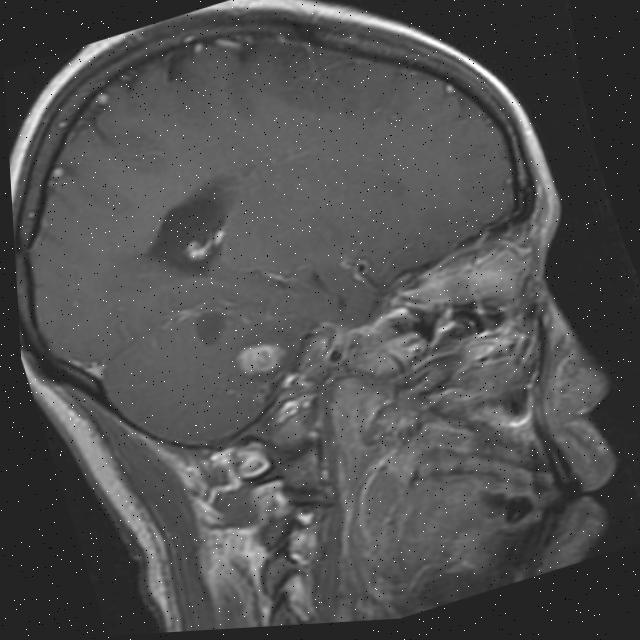Glioma: (229, 333, 292, 381)
